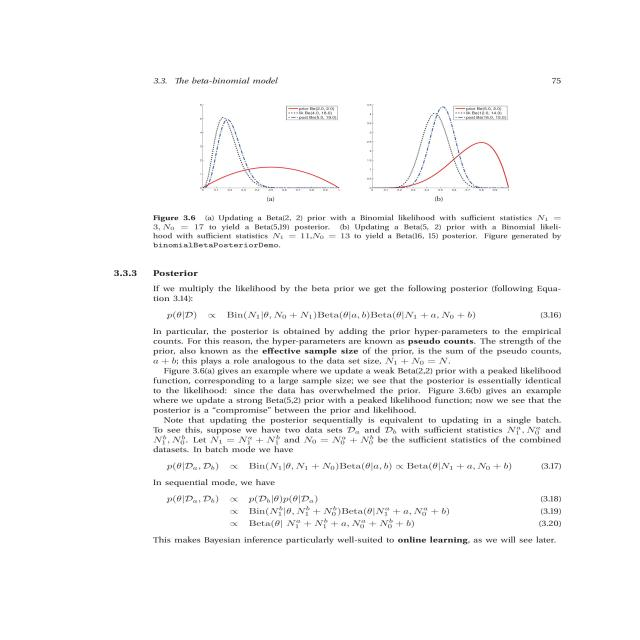diagram: (100, 95, 600, 250)
